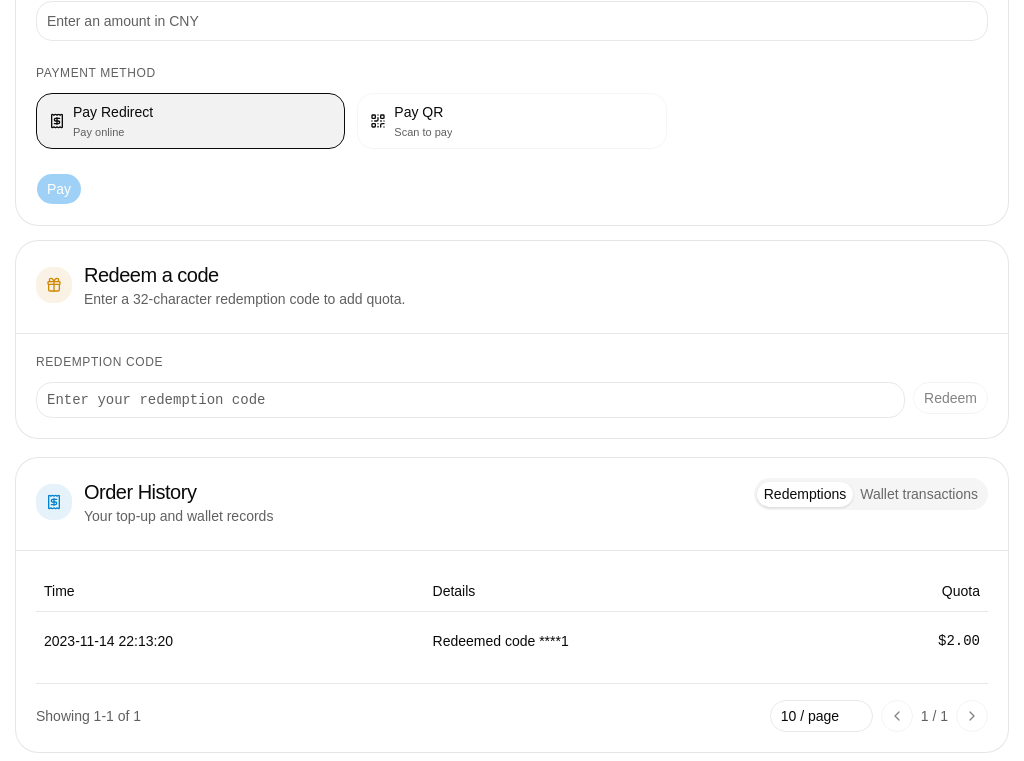
Scenario: history › switches to the wallet ledger and signs the amounts
(page scrolled)
Click the tab "Wallet transactions": (919, 494) [853,482,985,506]
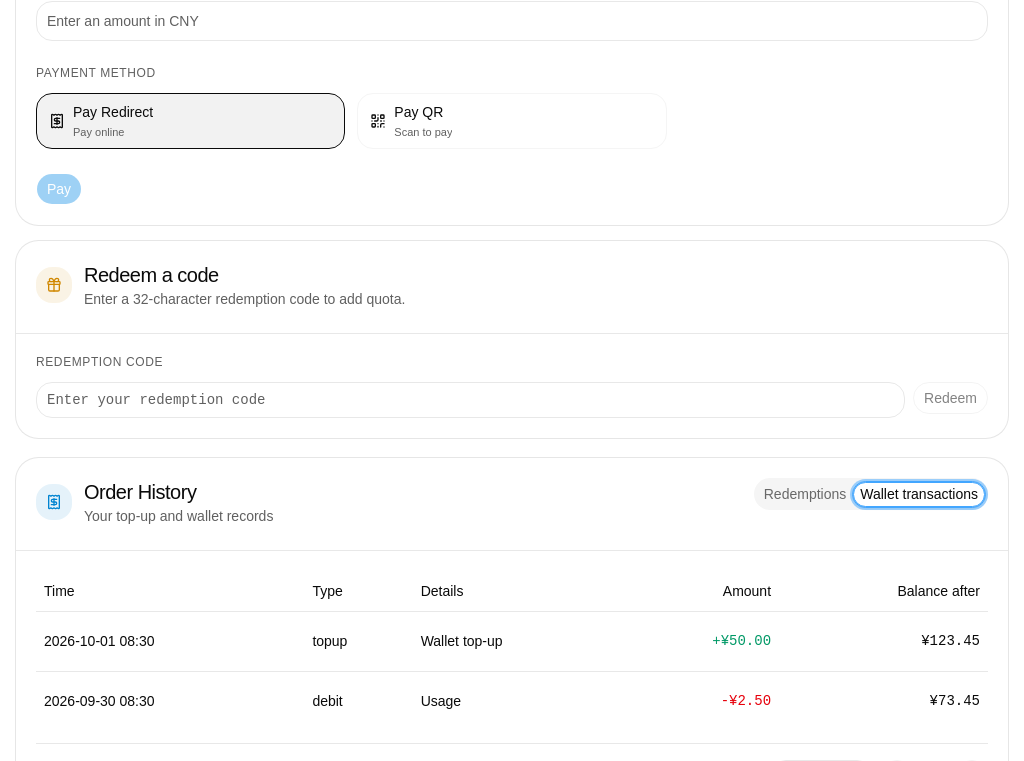
expect the text "+¥50.00" is shown: met, box [620,611,779,671]
expect the text "-¥2.50" is shown: met, box [620,671,779,731]
